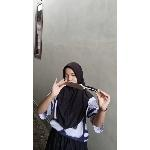Pisau: (61, 77, 103, 95)
